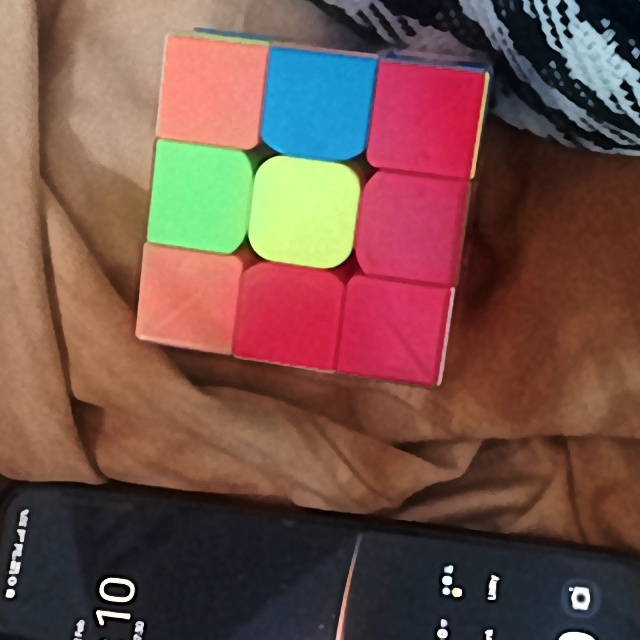tile: (368, 185, 455, 276), (384, 75, 474, 159), (276, 62, 361, 150), (168, 48, 253, 135), (262, 171, 345, 259), (157, 159, 239, 243), (351, 292, 435, 374), (247, 279, 333, 359), (145, 262, 229, 337)
